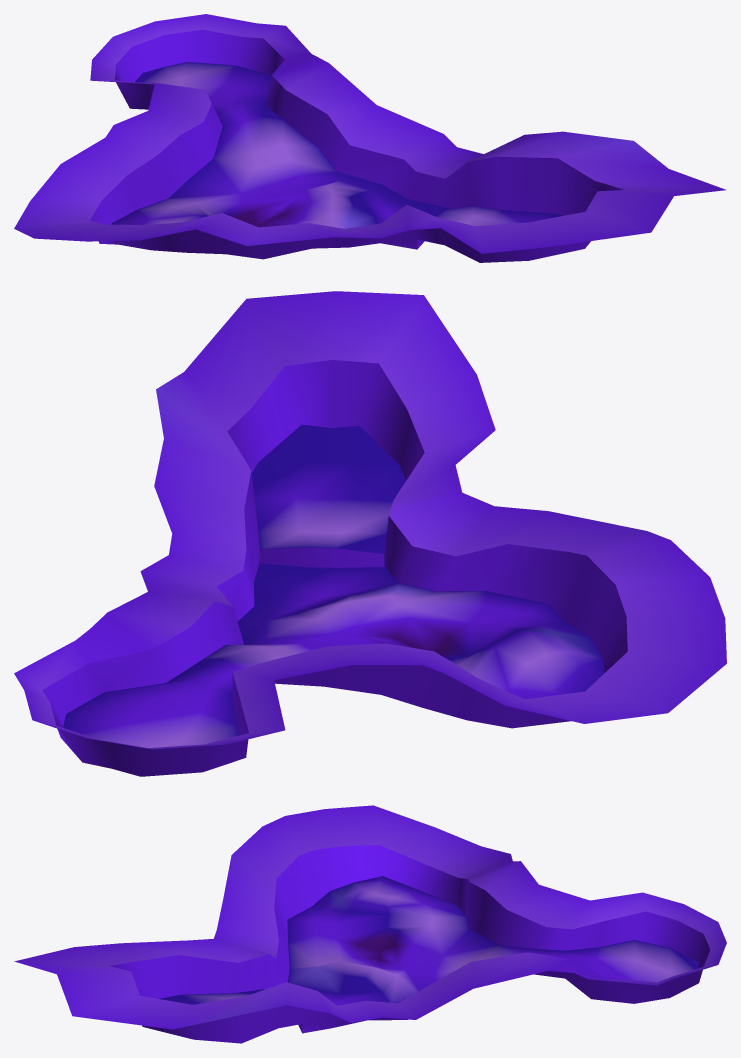
Rendered from DesertTemple.fbx.
3 renders of one model, top to bottom at view 1: azimuth 30°, elevation 25°; view 2: azimuth 150°, elevation 25°; view 3: azimuth 270°, elevation 25°, orthographic. The views are drawn at different scales.
Parts seen in each view (by area): view 1: Terrain; view 2: Terrain; view 3: Terrain.
Part boxes in pixels (bbox=[...]): Terrain: bbox=[14, 14, 725, 262]; Terrain: bbox=[14, 291, 726, 776]; Terrain: bbox=[14, 805, 726, 1043].
Bounding box in the file's own units: 29187 × 5220 × 35975.
